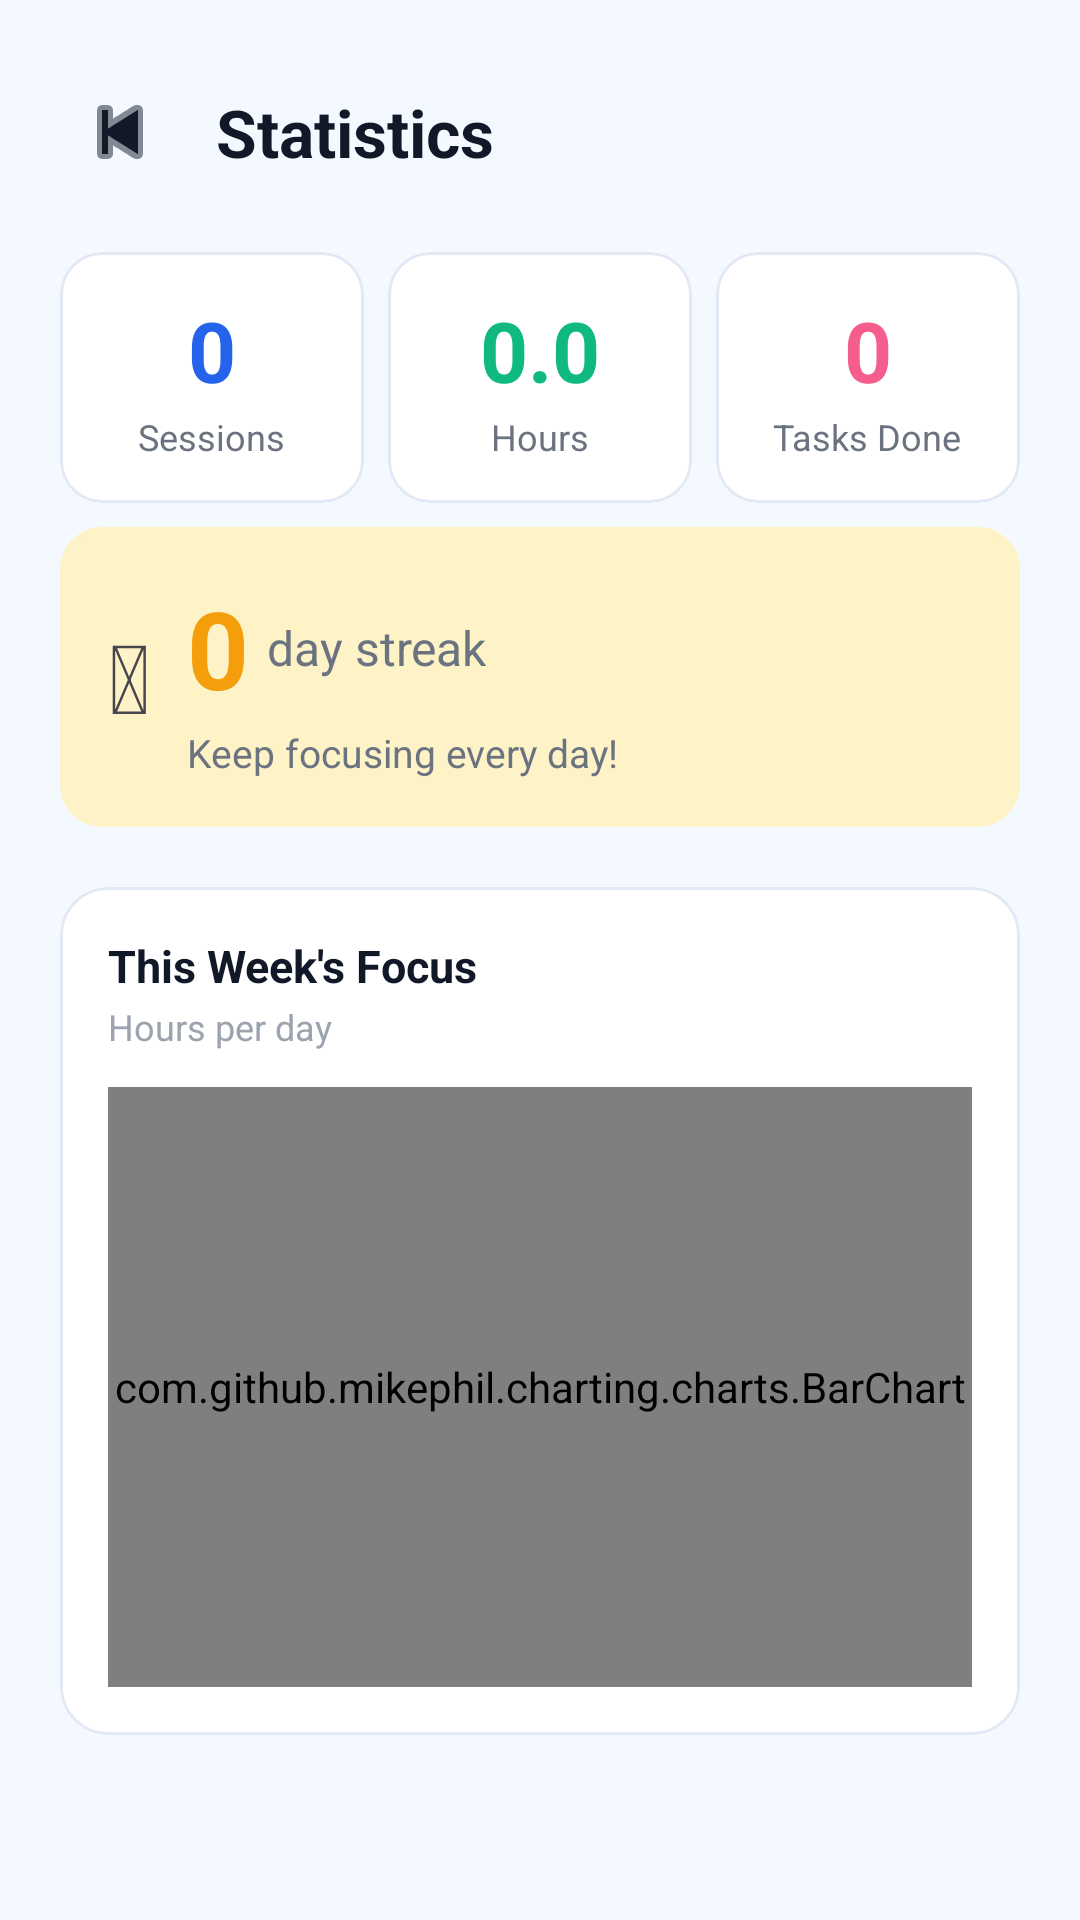

Named icons in this screenshot (1080px x 1920px) and their bounding boxes, detection(x1, y1, x2, y2):
Back: detection(97, 105, 143, 159)
